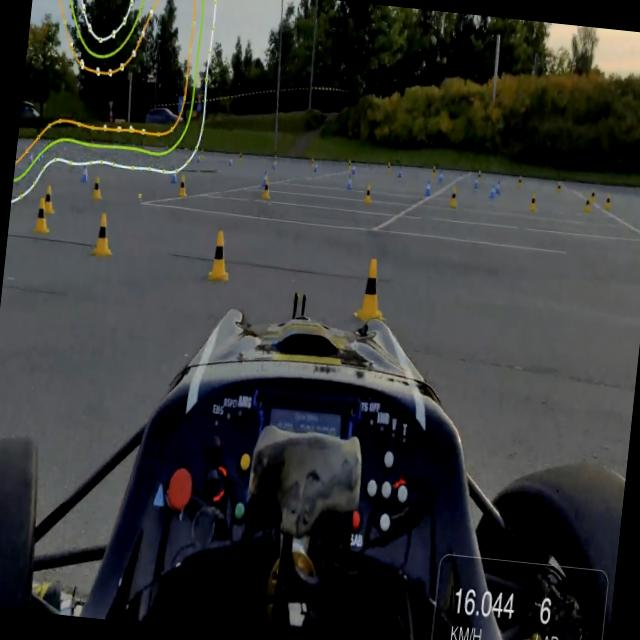yellow_cone: (349, 248, 399, 336), (89, 198, 122, 263), (208, 222, 239, 290), (27, 184, 62, 242)
